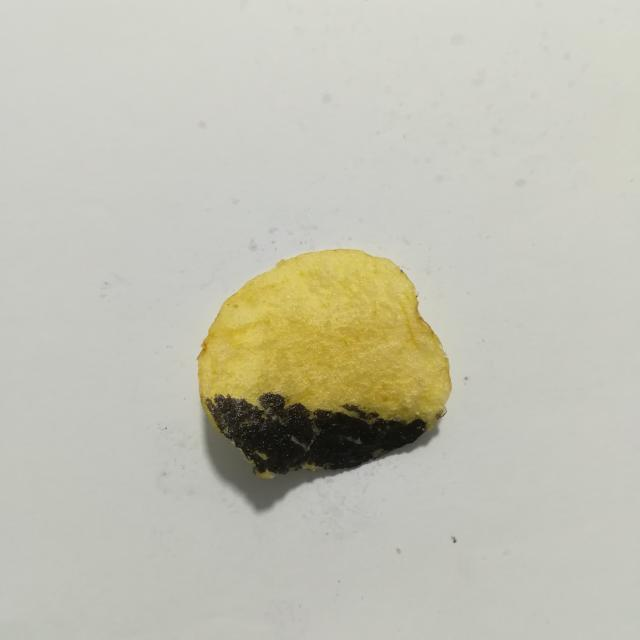chip: (197, 249, 451, 477)
damaged: (205, 392, 426, 474)
